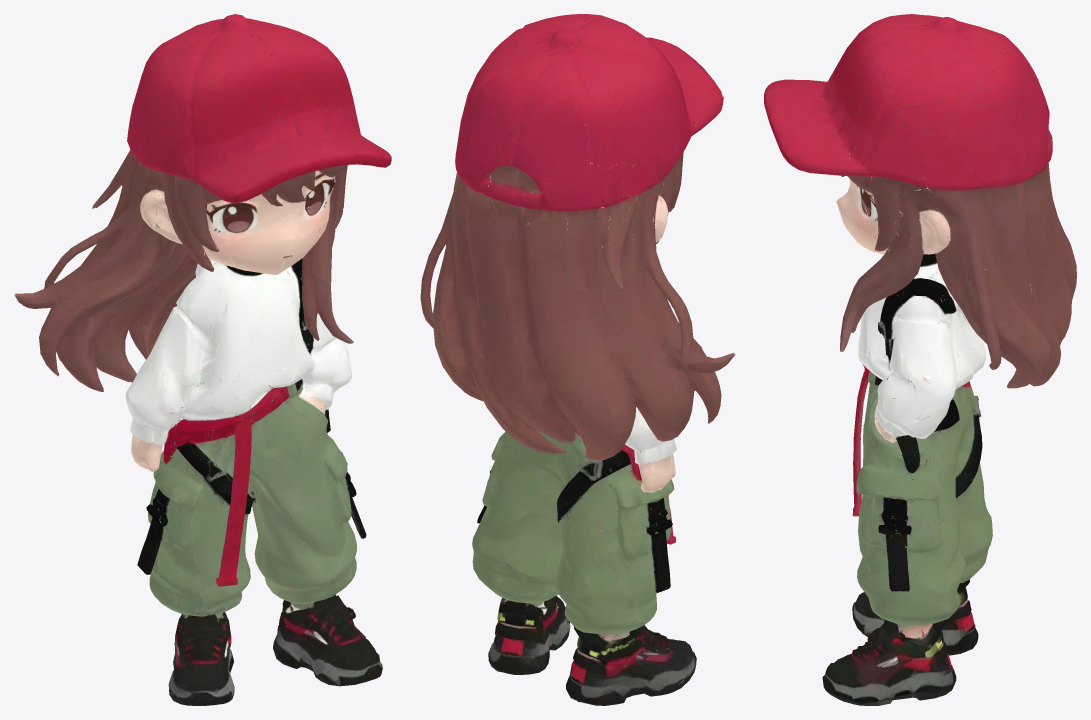
The model's file is chibi.glb.
3 views of the same model, side by side, from view 1: azimuth 30°, elevation 25°; view 2: azimuth 150°, elevation 25°; view 3: azimuth 270°, elevation 25° (orthographic). The views are drawn at different scales.
Visible parts, largest first — view 1: Mesh_0; view 2: Mesh_0; view 3: Mesh_0.
Part boxes in pixels (left/top/right/bottom): Mesh_0: left=14, top=14, right=391, bottom=705; Mesh_0: left=420, top=14, right=735, bottom=705; Mesh_0: left=764, top=14, right=1076, bottom=705.
Size of the model in its own units: 0.963 by 1.9 by 0.8384.
1 material, 1 textured.
